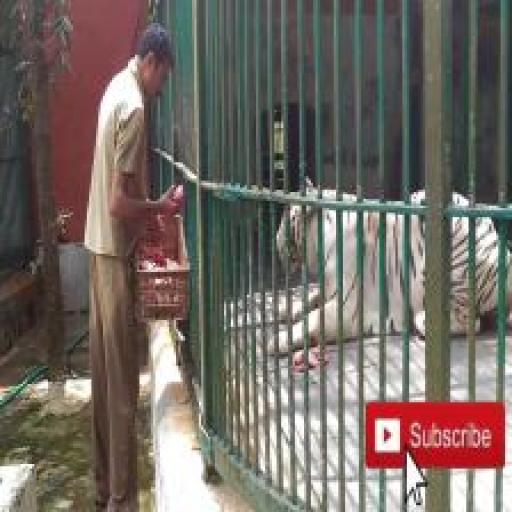Tiger: (267, 176, 512, 361)
